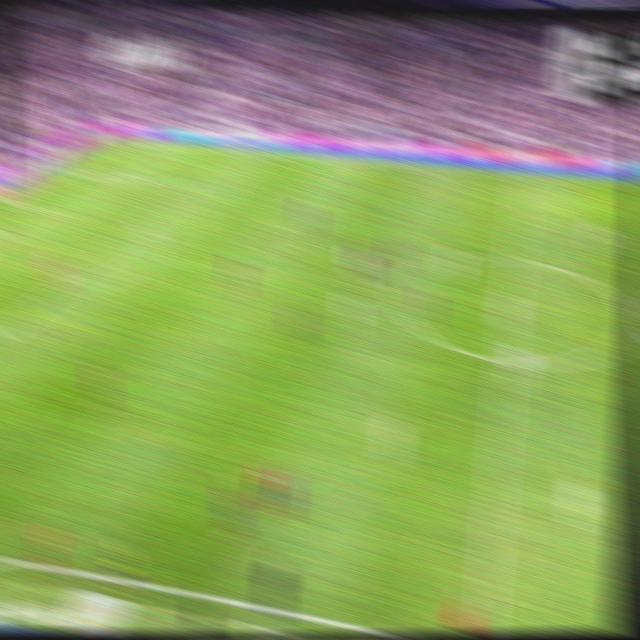bigarea_top_inner: (182, 176, 202, 193)
bottom_arc_area_intersection: (50, 277, 74, 297)
corner: (106, 133, 127, 145)
halfcircle_bottom: (494, 346, 519, 374)
halfcircle_top: (502, 246, 527, 271)
midline_top_intersection: (512, 168, 532, 184)
top_arc_area_intersection: (131, 215, 152, 232)
